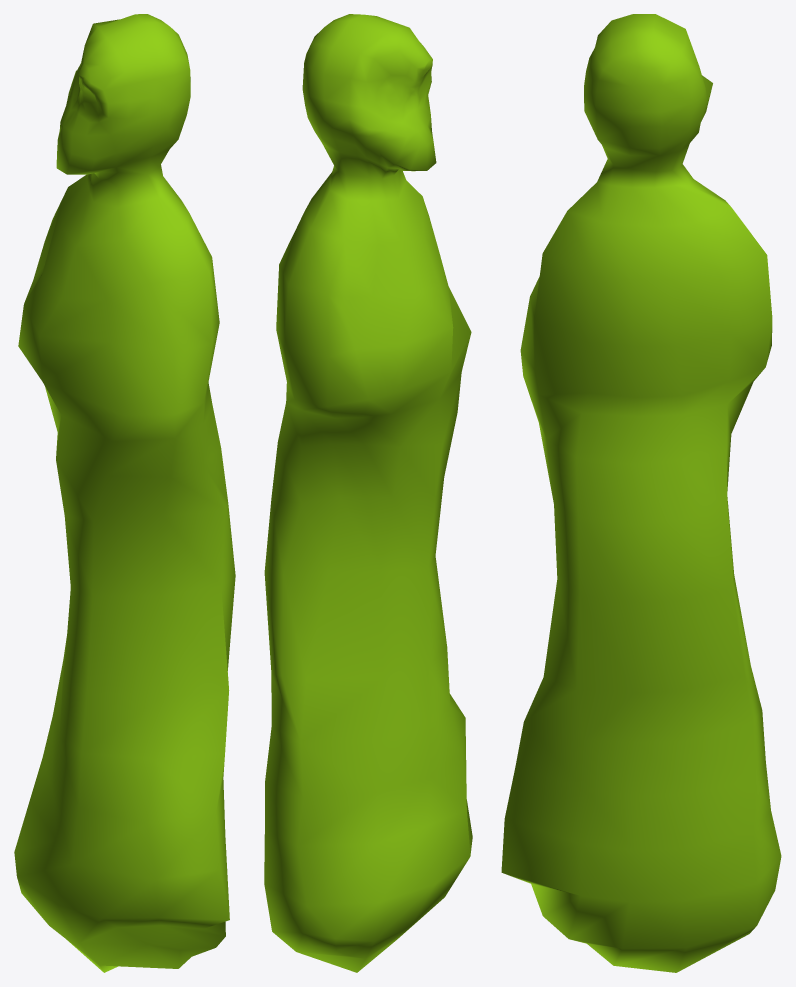
The model's file is Statue_02_Lod0.fbx.
3 renders of one model, left to right at view 1: azimuth 30°, elevation 25°; view 2: azimuth 150°, elevation 25°; view 3: azimuth 270°, elevation 25°, orthographic. The views are drawn at different scales.
Parts seen in each view (by area): view 1: Statue_02_Lod0; view 2: Statue_02_Lod0; view 3: Statue_02_Lod0.
Boxes of the visible parts, left/top/right/bottom form: Statue_02_Lod0: left=14, top=14, right=235, bottom=972; Statue_02_Lod0: left=264, top=14, right=472, bottom=972; Statue_02_Lod0: left=501, top=14, right=781, bottom=972.
Bounding box in the file's own units: 43.7 × 226 × 60.61.
